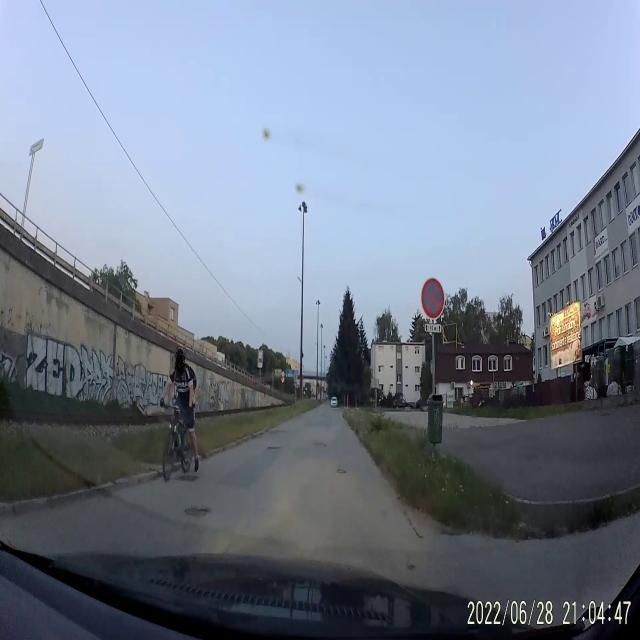Manhole: (174, 475, 199, 483)
Pothole: (183, 501, 210, 521), (312, 438, 328, 451), (270, 427, 288, 437), (266, 445, 280, 455), (334, 466, 348, 476)
